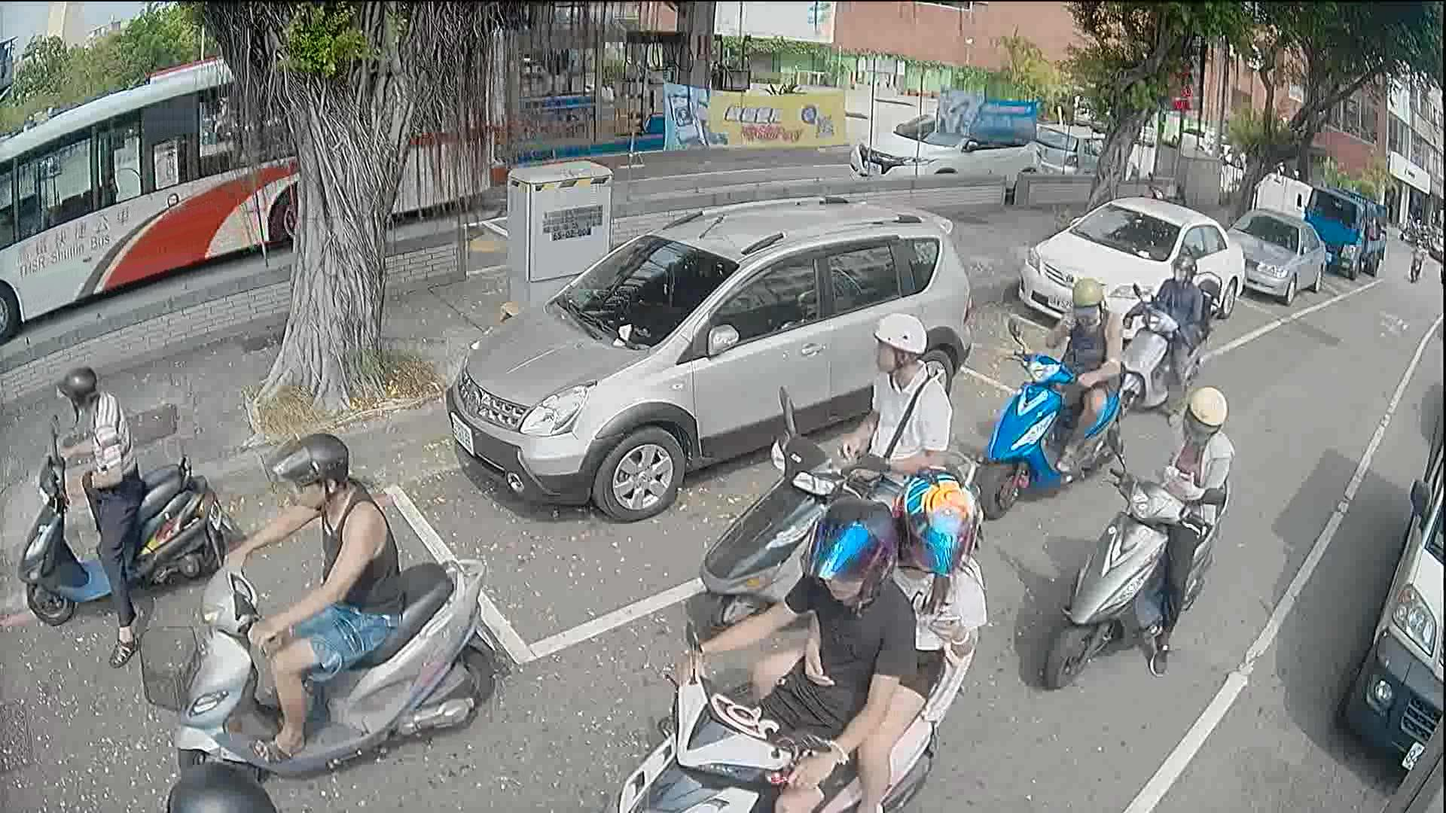person: (655, 496, 911, 812), (780, 480, 979, 812), (214, 423, 403, 769), (1130, 376, 1228, 676), (50, 357, 145, 657), (836, 315, 949, 507), (1022, 263, 1118, 474), (1146, 254, 1219, 414), (164, 741, 276, 811)
